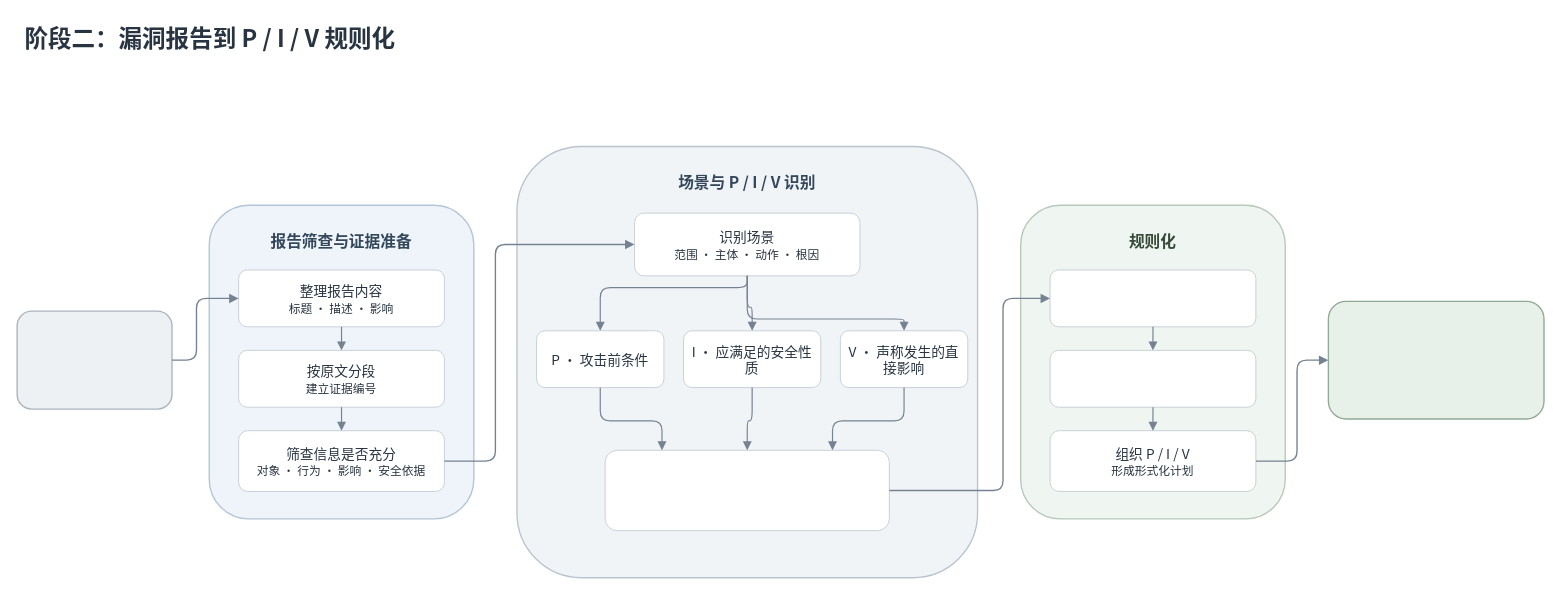
Image size: 1562x595. Some labels were removed from this diagram. Here are the shapes that lost their labels. From the top down, the centre of each, then its label:
the point at 1152,298: 确定安全关系
the point at 94,359: 输入 漏洞报告
the point at 1152,378: 确定观测量与适用范围
the point at 1435,359: 输出至阶段三 P / I / V 形式化计划 未决项
the point at 746,490: 核对证据与语义角色 检查 V 是否直接违反 I 记录缺失与歧义
